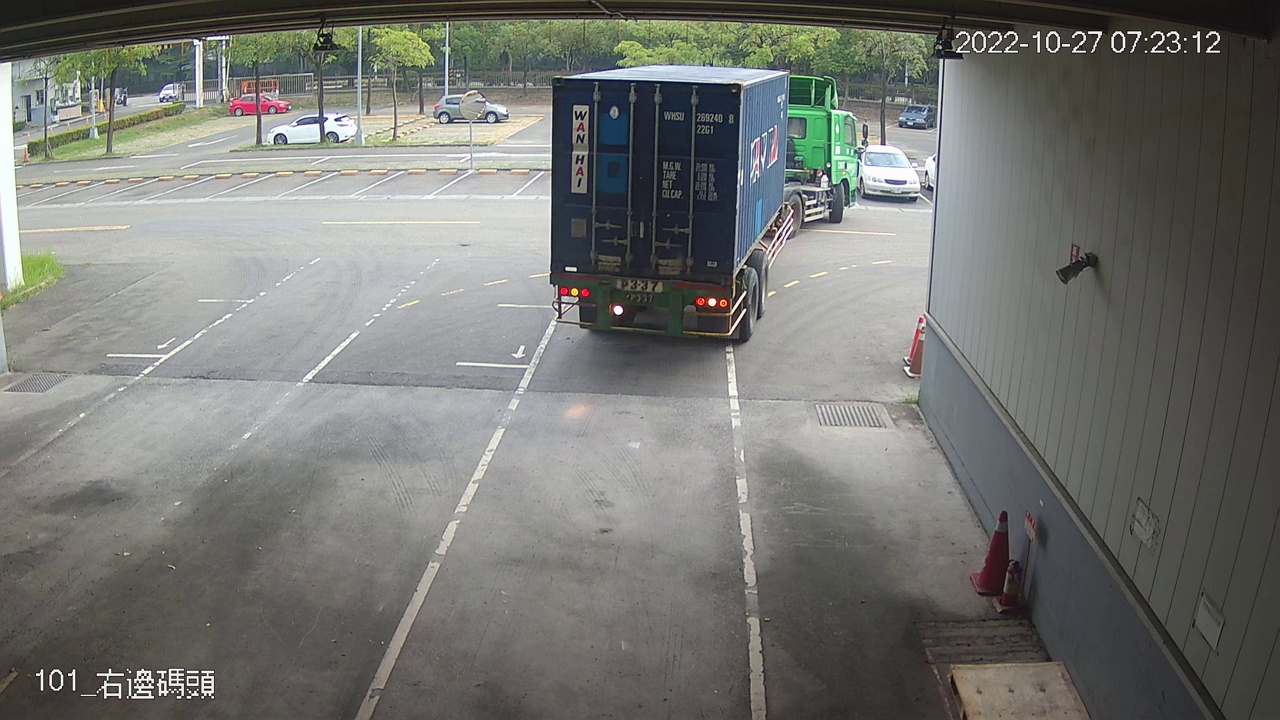container: (658, 105, 737, 137)
